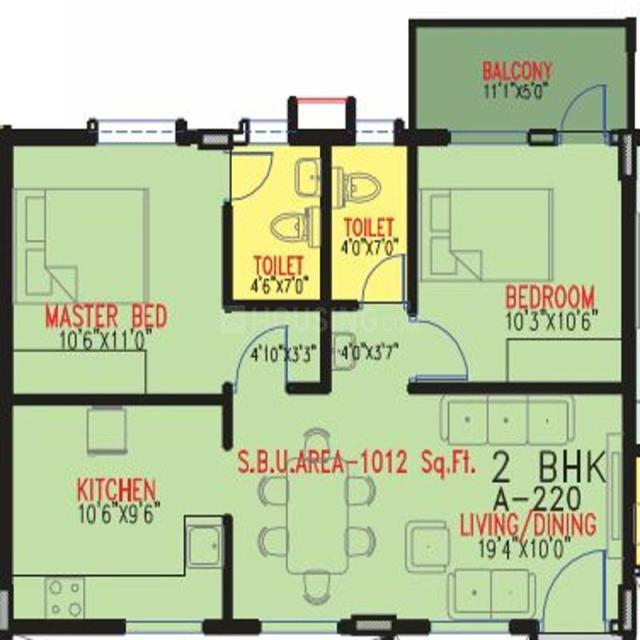Balcony-Sitout: (407, 17, 639, 143)
Bedroom: (405, 133, 630, 395)
Bedroom with Toilet: (1, 131, 232, 404)
Dining: (255, 423, 385, 612)
Kitchen: (0, 397, 233, 629)
Living: (404, 384, 639, 638)
Toilet: (322, 140, 419, 307), (229, 140, 326, 307)
